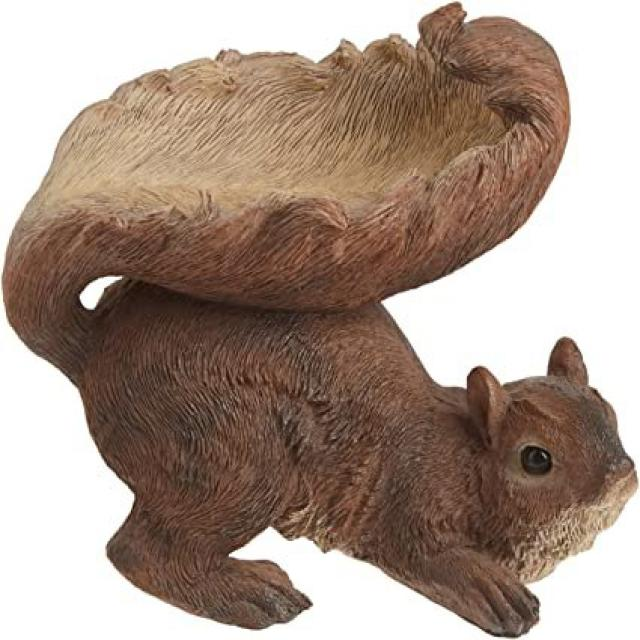Squirrel: (14, 13, 637, 620)
